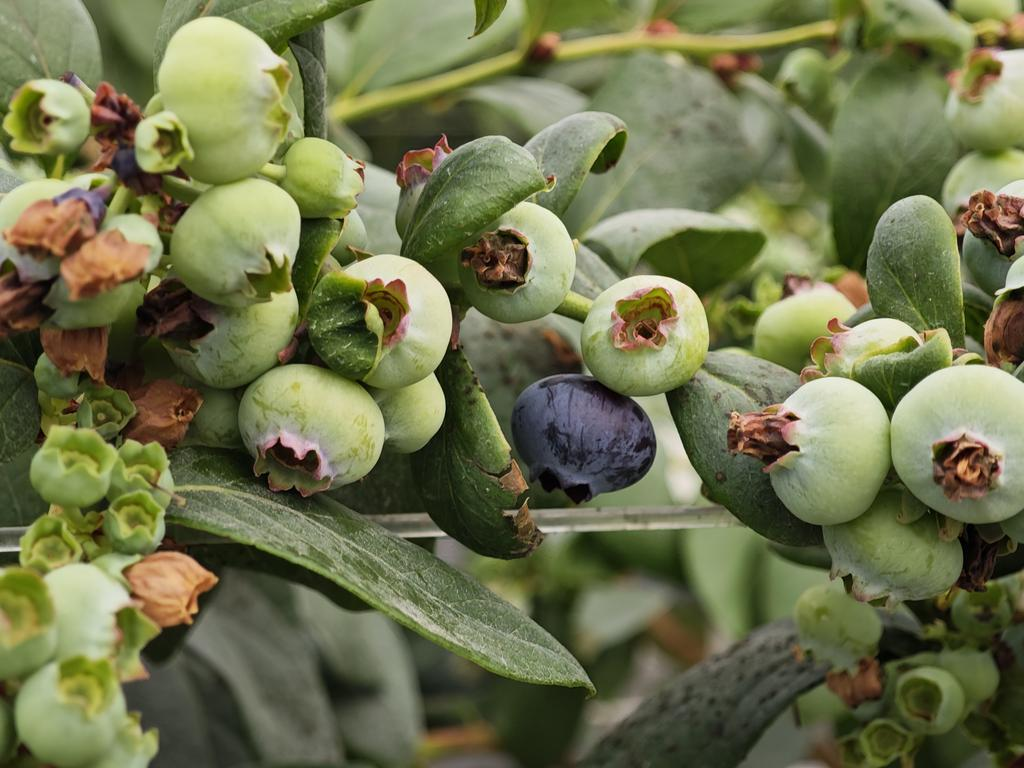RipeBlueBerry: (511, 373, 659, 500)
UnripeBlueBerry: (156, 16, 294, 185), (754, 375, 892, 527), (237, 362, 385, 496), (167, 179, 303, 307), (333, 253, 454, 389), (579, 272, 711, 396), (456, 201, 576, 322)
